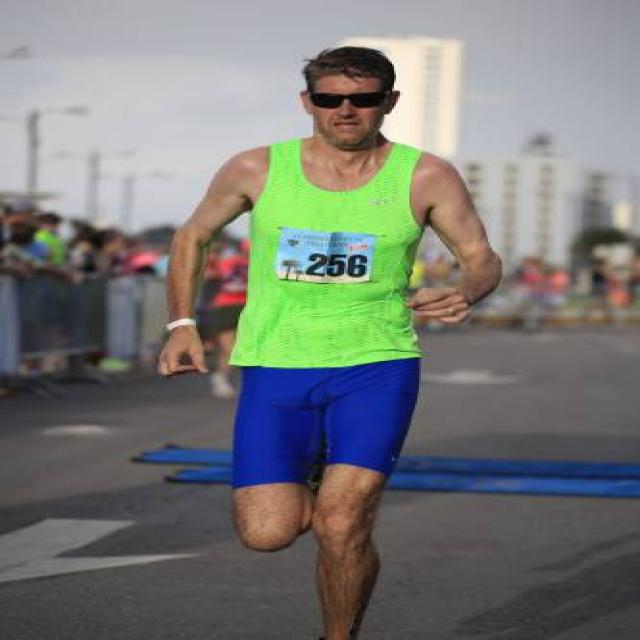running: (153, 42, 507, 640)
